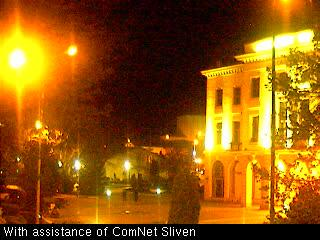person: (122, 189, 127, 205), (133, 189, 138, 202)
